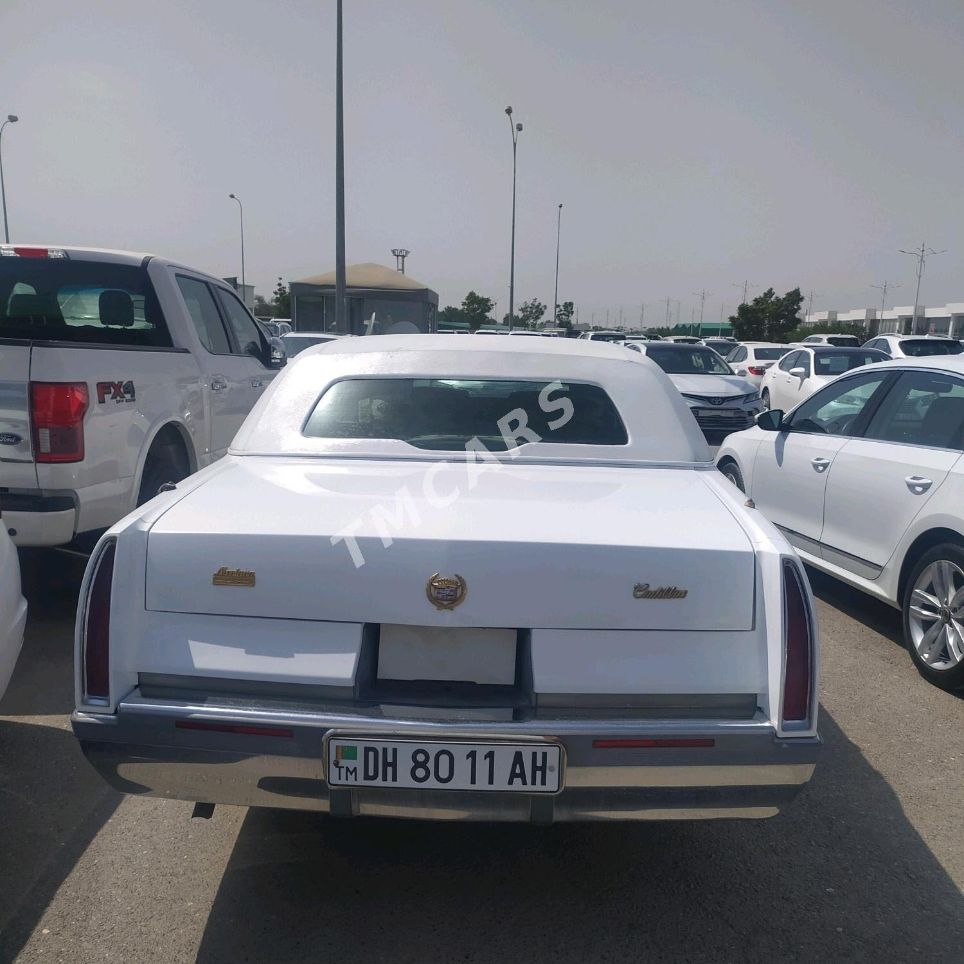license plate: (327, 735, 561, 796)
truck: (70, 323, 829, 841)
